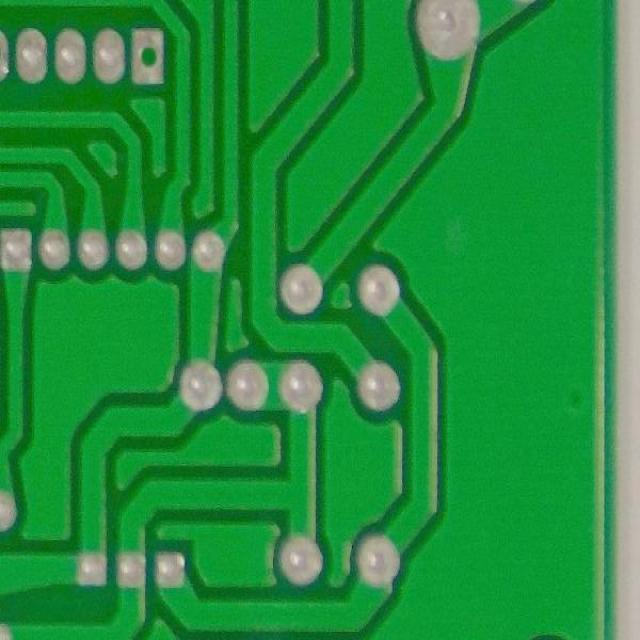missing hole: (126, 24, 168, 91)
